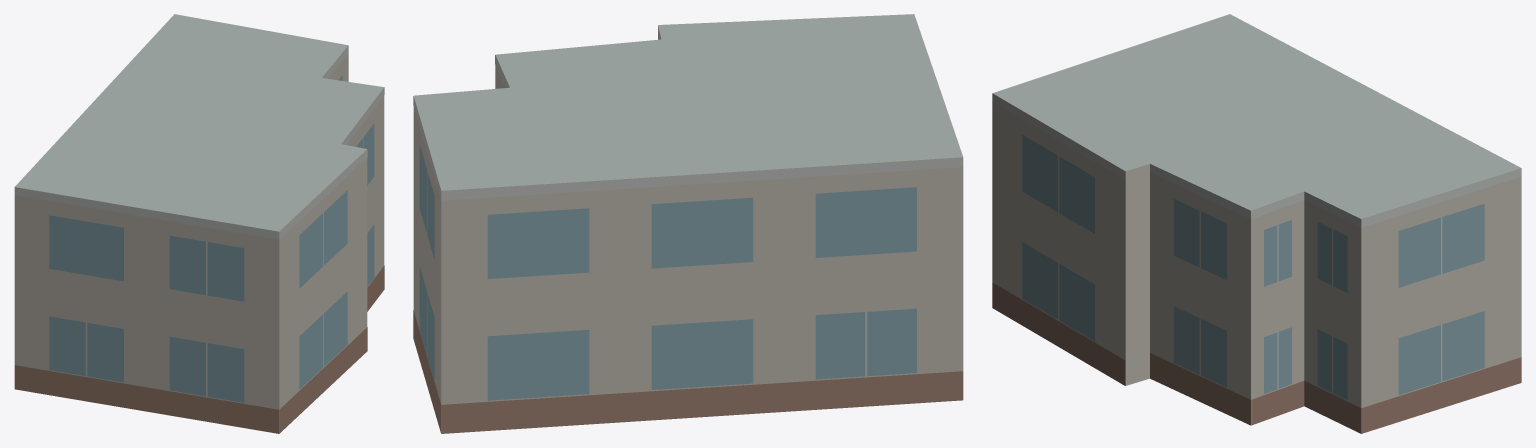
The model's file is survey-upis-32718848.glb.
3 views of the same model, side by side, from view 1: azimuth 30°, elevation 25°; view 2: azimuth 150°, elevation 25°; view 3: azimuth 270°, elevation 25° (orthographic). The views are drawn at different scales.
Visible parts, largest first — view 1: survey-upis-32718848.tmp; view 2: survey-upis-32718848.tmp; view 3: survey-upis-32718848.tmp.
Part boxes in pixels (x1,y1,x2,y2): survey-upis-32718848.tmp: (14,14,384,433); survey-upis-32718848.tmp: (413,14,963,433); survey-upis-32718848.tmp: (992,14,1521,433).
Bounding box in the file's own units: 12.5 × 6.1 × 13.63.
